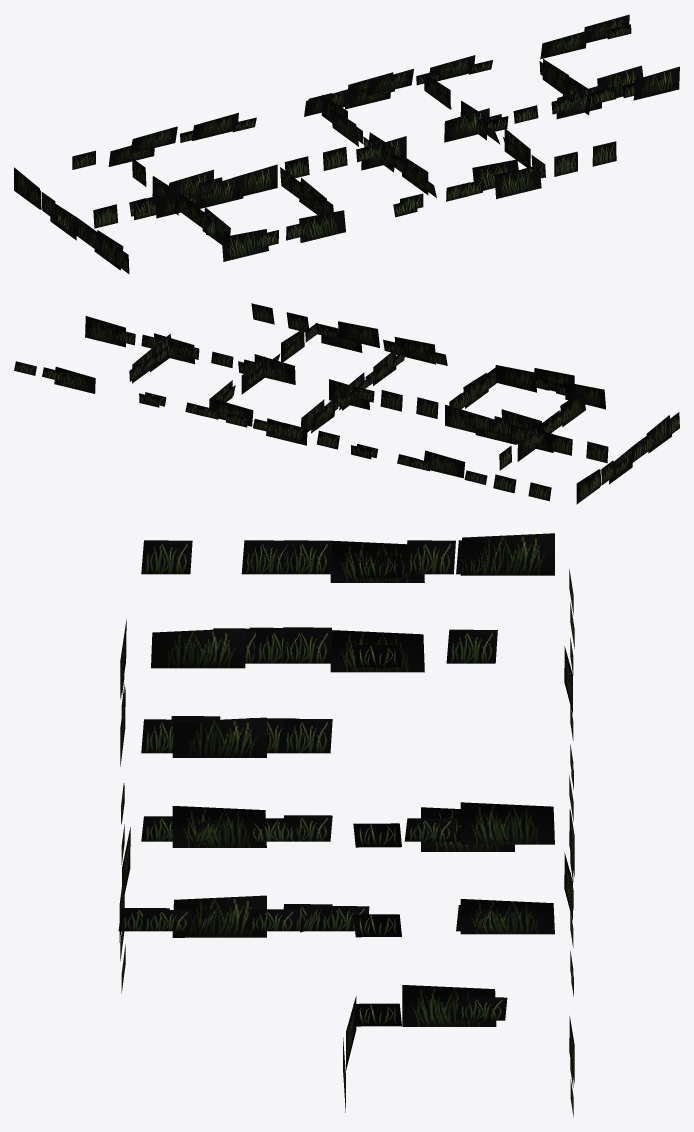
Rendered from Sidewalk_Large_Overgrowth_Medium.fbx.
3 views of the same model, one above another, from view 1: azimuth 30°, elevation 25°; view 2: azimuth 150°, elevation 25°; view 3: azimuth 270°, elevation 25° (orthographic). The views are drawn at different scales.
Parts seen in each view (by area): view 1: Sidewalk_Large_Overgrowth_Medium; view 2: Sidewalk_Large_Overgrowth_Medium; view 3: Sidewalk_Large_Overgrowth_Medium.
Boxes of the visible parts, x1=… form: Sidewalk_Large_Overgrowth_Medium: x1=14, y1=14, x2=679, y2=273; Sidewalk_Large_Overgrowth_Medium: x1=14, y1=303, x2=679, y2=504; Sidewalk_Large_Overgrowth_Medium: x1=118, y1=533, x2=574, y2=1116.
Bounding box in the file's own units: 1012 × 57.46 × 359.
